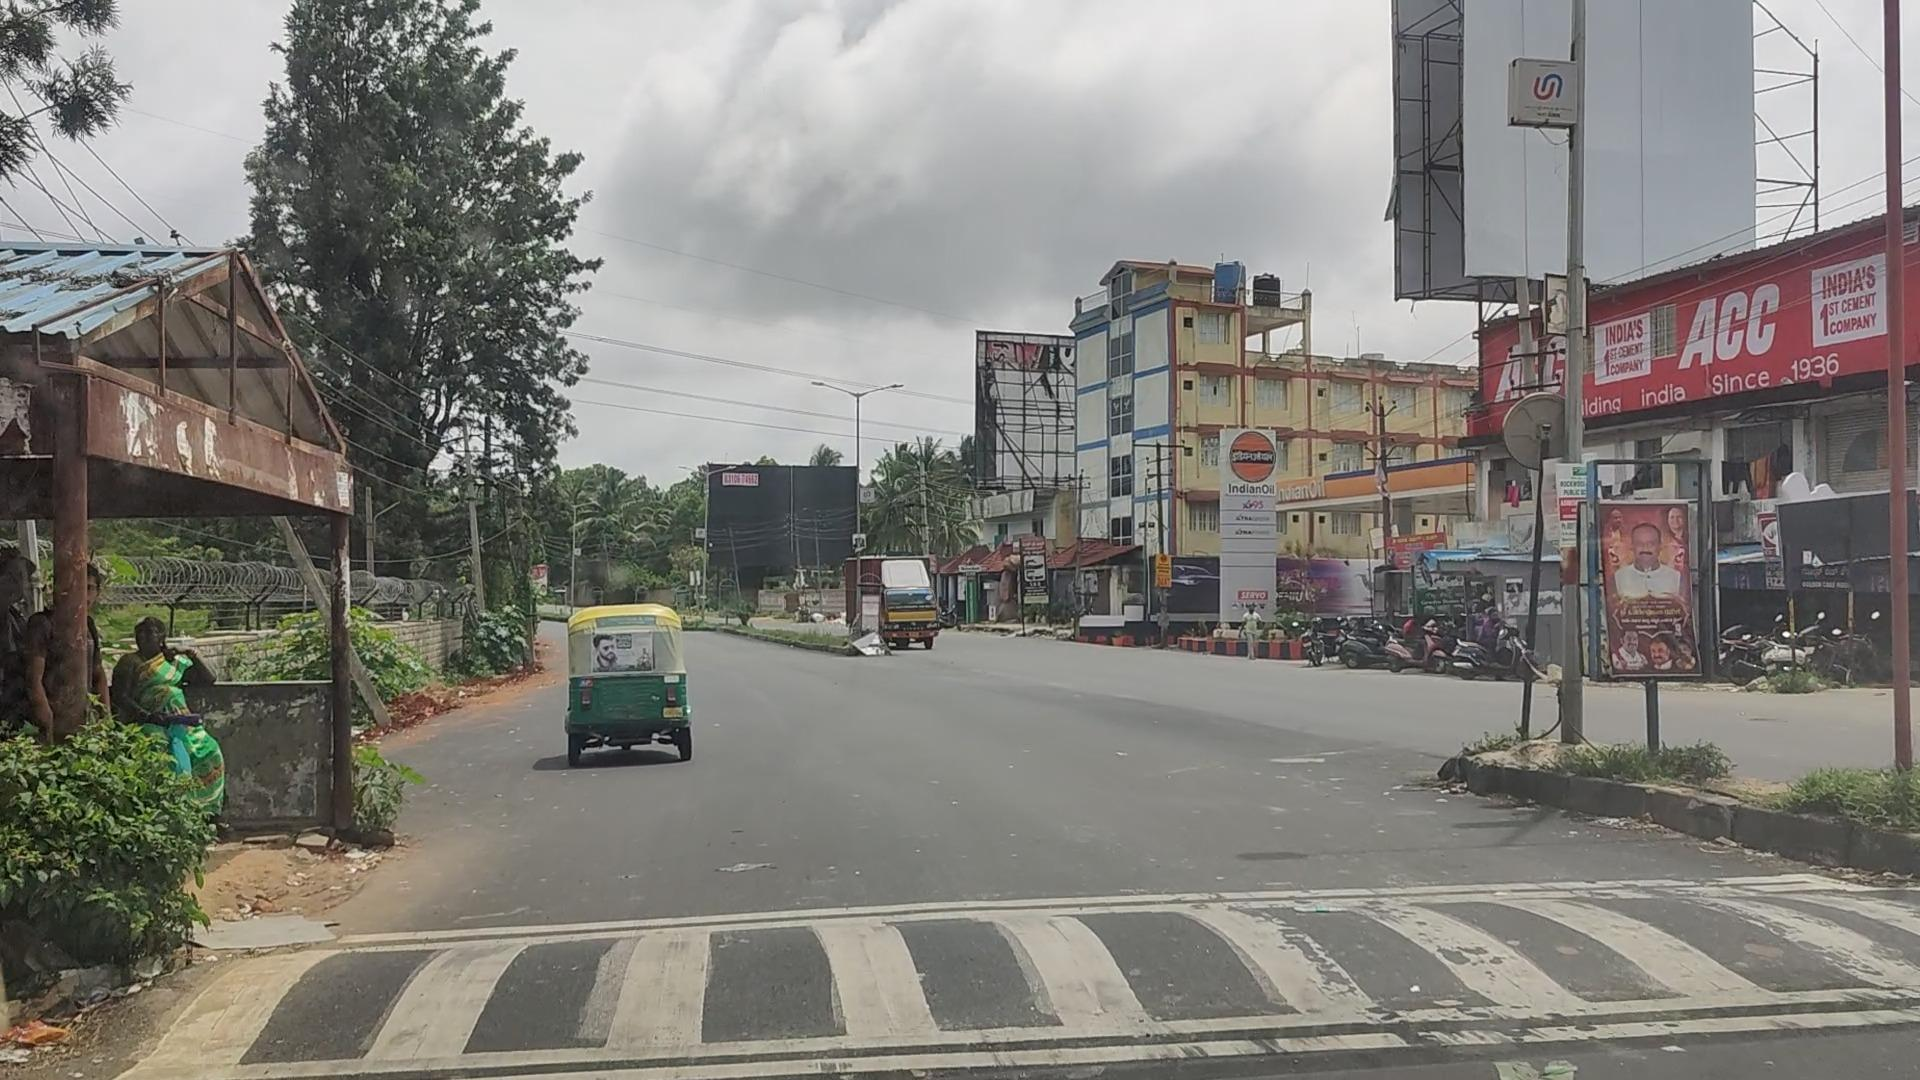LMV: (560, 603, 692, 754)
SpeedBump: (224, 869, 1911, 1072)
